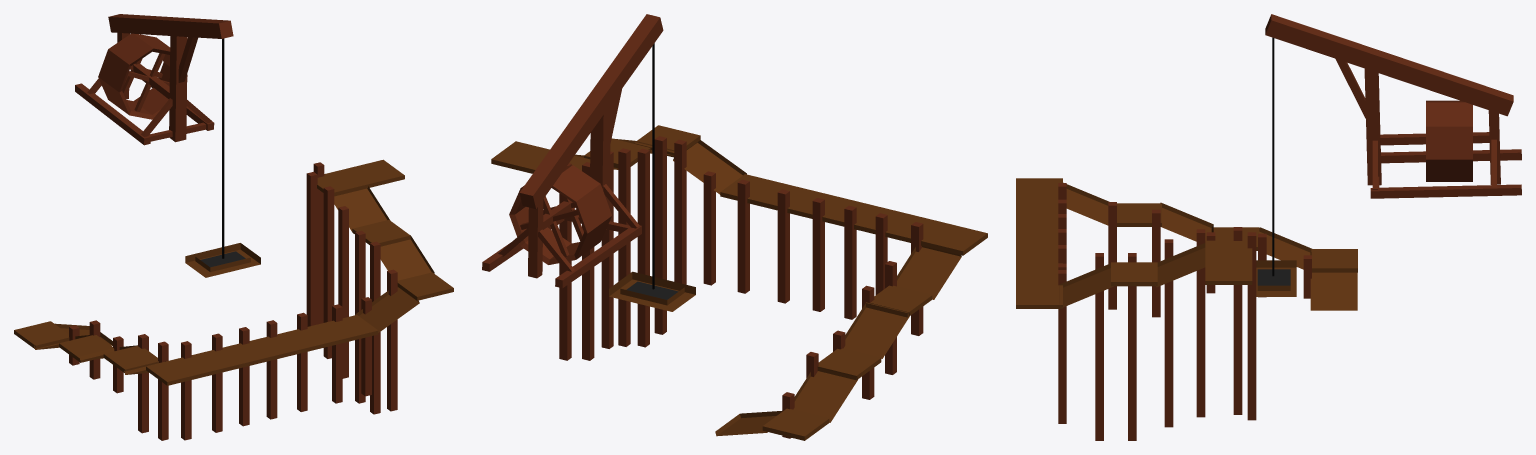
Rendered from quarry.obj.
3 views of the same model, side by side, from view 1: azimuth 30°, elevation 25°; view 2: azimuth 150°, elevation 25°; view 3: azimuth 270°, elevation 25° (orthographic). The views are drawn at different scales.
Parts seen in each view (by area): view 1: Cube, Circle.001_Circle.002, Cube.035_Cube.055, Cube.007, Cube.026, Cube.025, Cube.045_Cube.066, Cube.034_Cube.054, Cube.003, Cube.024, Cube.022, Cube.006 (+22 smaller); view 2: Cube, Cube.035_Cube.055, Circle.001_Circle.002, Cube.010_Cube.033, Cube.045_Cube.066, Cube.022, Cube.008, Cube.023, Cube.012, Cube.021, Cube.024, Cube.002 (+23 smaller); view 3: Cube.035_Cube.055, Cube, Circle.001_Circle.002, Cube.007, Cube.014, Cube.033_Cube.056, Cube.027, Cube.024, Cube.025, Cube.045_Cube.066, Cube.023, Cube.022 (+19 smaller).
Part boxes in pixels (box(x1,y1,x2,y2)): Cube: box(146, 315, 378, 385); Circle.001_Circle.002: box(98, 33, 187, 119); Cube.035_Cube.055: box(108, 14, 233, 38); Cube.007: box(317, 159, 404, 196); Cube.026: box(306, 172, 317, 326); Cube.025: box(323, 186, 334, 358); Cube.045_Cube.066: box(185, 243, 260, 277); Cube.034_Cube.054: box(169, 36, 187, 142); Cube.003: box(380, 235, 434, 280); Cube.024: box(338, 206, 348, 378); Cube.022: box(370, 241, 380, 414); Cube.006: box(334, 186, 390, 233); Cube: box(720, 174, 987, 255); Cube.035_Cube.055: box(519, 14, 663, 208); Circle.001_Circle.002: box(509, 165, 611, 264); Cube.010_Cube.033: box(843, 302, 910, 358); Cube.045_Cube.066: box(609, 271, 695, 311); Cube.022: box(654, 136, 666, 334); Cube.008: box(897, 246, 961, 299); Cube.023: box(637, 148, 649, 347); Cube.012: box(793, 367, 857, 422); Cube.021: box(674, 139, 686, 284); Cube.024: box(618, 148, 630, 346); Cube.002: box(673, 140, 746, 194); Cube.035_Cube.055: box(1265, 14, 1513, 116); Cube: box(1016, 178, 1062, 285); Circle.001_Circle.002: box(1426, 100, 1472, 181); Cube.007: box(1205, 240, 1252, 284); Cube.014: box(1310, 272, 1357, 310); Cube.033_Cube.056: box(1370, 184, 1521, 198); Cube.027: box(1247, 232, 1256, 420); Cube.024: box(1164, 239, 1173, 427); Cube.025: box(1196, 229, 1205, 417); Cube.045_Cube.066: box(1256, 260, 1296, 296); Cube.023: box(1128, 253, 1136, 440); Cube.022: box(1095, 253, 1103, 440).
Size of the model in its own units: 17.44 by 18.02 by 21.54.
